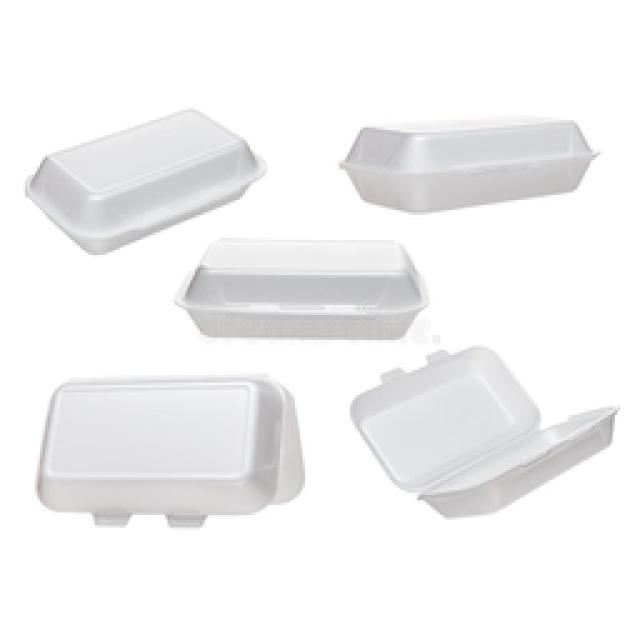styrofoam: (350, 348, 618, 515), (40, 378, 302, 525), (25, 110, 262, 252), (340, 115, 595, 212), (175, 238, 422, 338)
